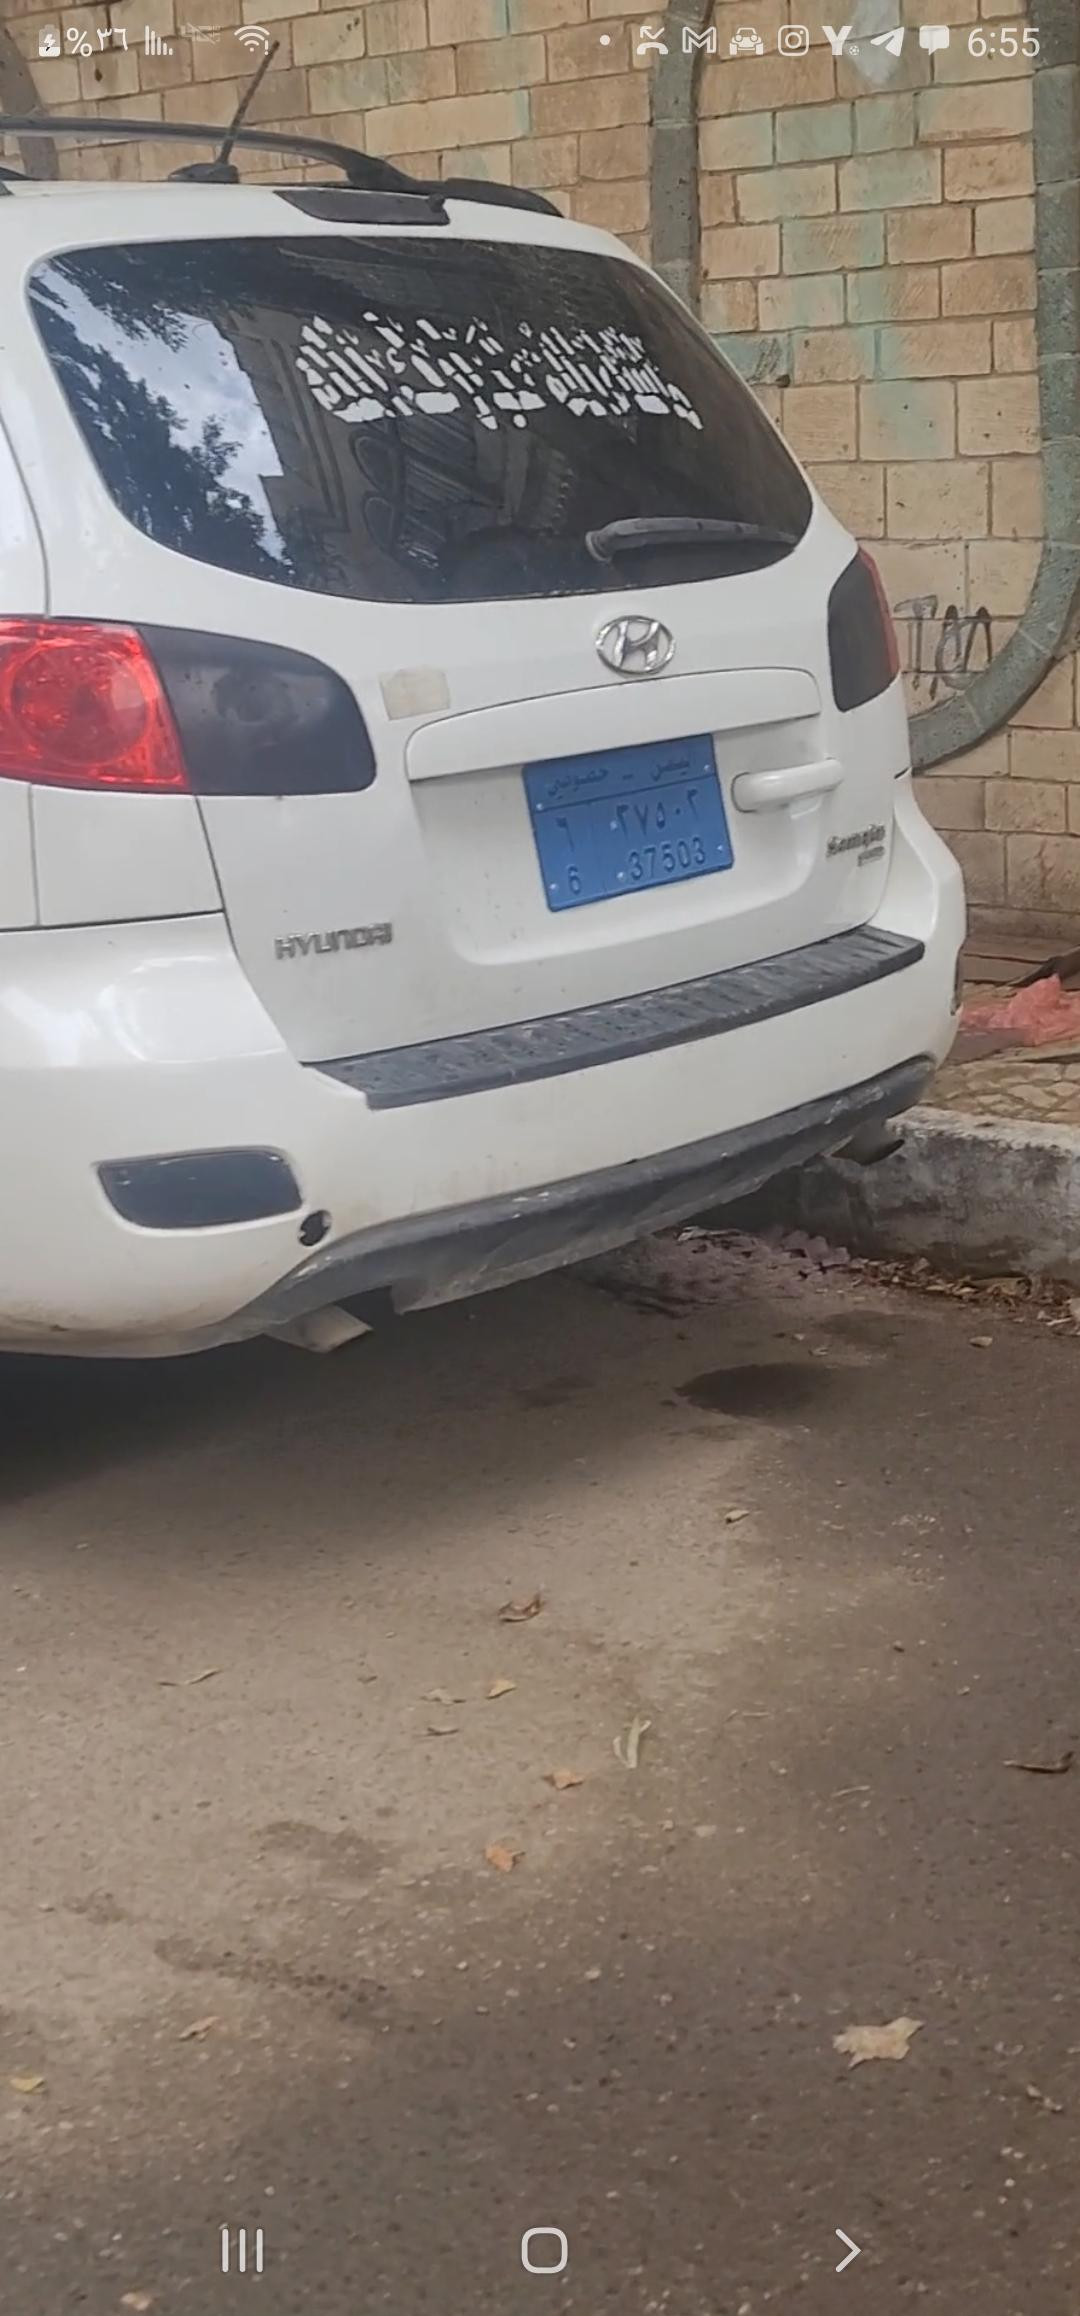privte: (527, 739, 731, 907)
